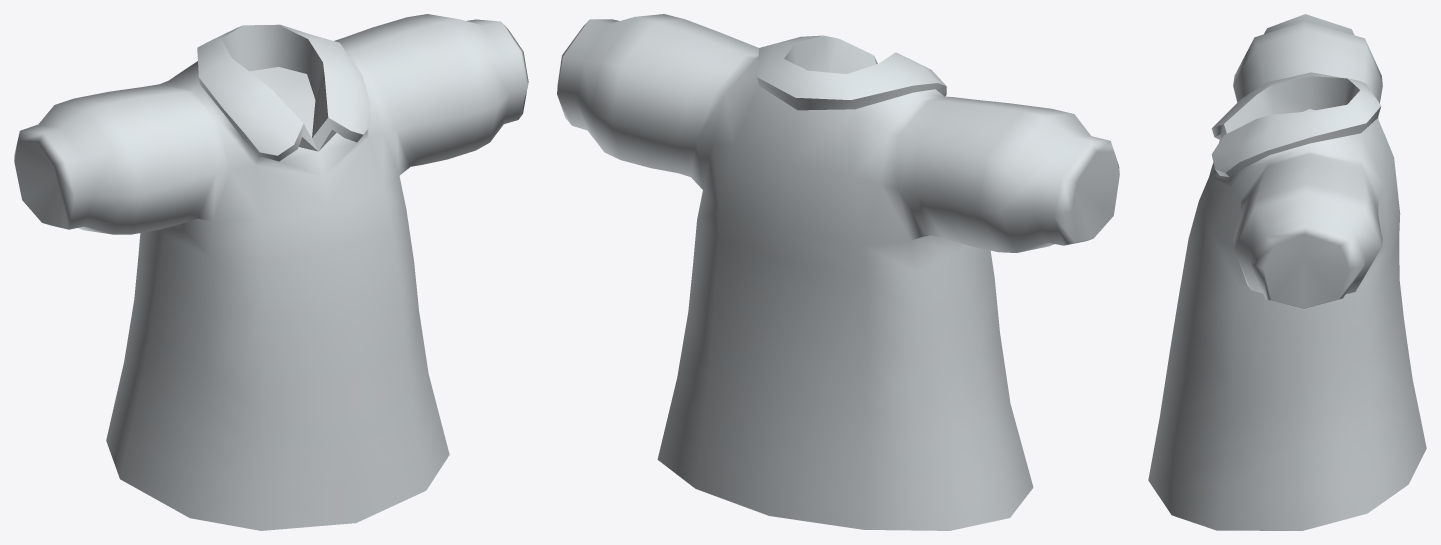
Rendered from Top_50.fbx.
The picture shows the model from 3 angles, left to right: view 1: azimuth 30°, elevation 25°; view 2: azimuth 150°, elevation 25°; view 3: azimuth 270°, elevation 25°; orthographic projection. The views are drawn at different scales.
Visible parts, largest first — view 1: Top_50; view 2: Top_50; view 3: Top_50.
Part boxes in pixels (bbox=[...]): Top_50: bbox=[14, 14, 528, 530]; Top_50: bbox=[557, 14, 1119, 530]; Top_50: bbox=[1148, 14, 1426, 530].
Bounding box in the file's own units: 76.42 × 64.46 × 41.67.
